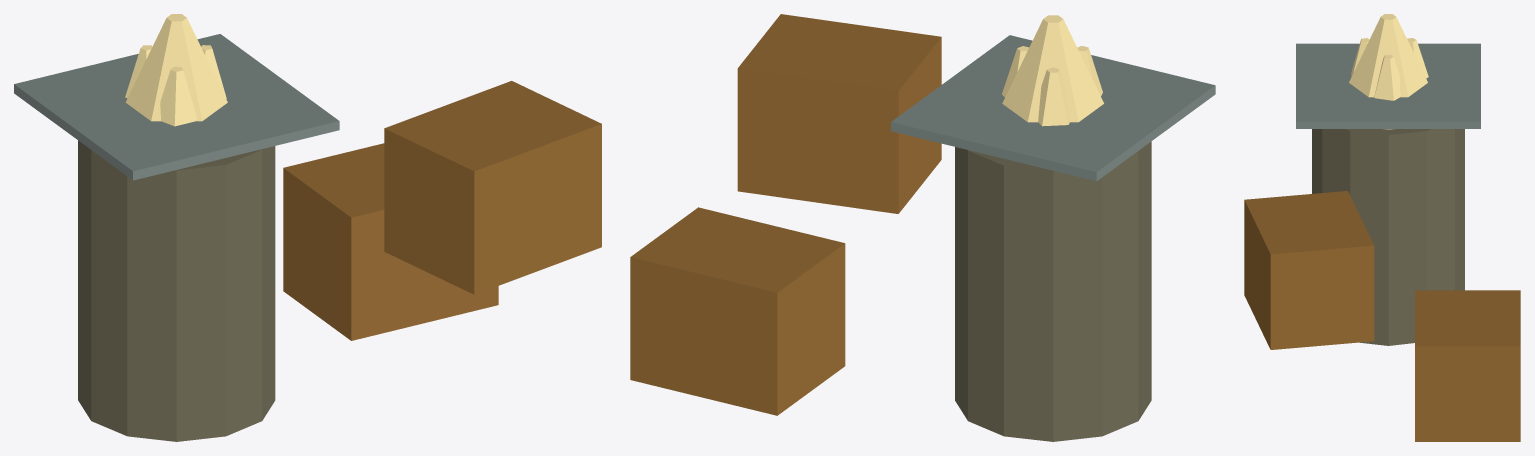
Rendered from SM_BidonFuego_v1_Parrilla_LOD0.fbx.
3 renders of one model, left to right at view 1: azimuth 30°, elevation 25°; view 2: azimuth 150°, elevation 25°; view 3: azimuth 270°, elevation 25°, orthographic. The views are drawn at different scales.
Visible parts, largest first — view 1: SM_vida_fuerte_v1_LOD0, Emision; view 2: SM_vida_fuerte_v1_LOD0, Emision; view 3: SM_vida_fuerte_v1_LOD0, Emision.
Boxes of the visible parts, x1,y1,x2,y2 form: SM_vida_fuerte_v1_LOD0: [14, 34, 601, 441]; Emision: [125, 14, 227, 126]; SM_vida_fuerte_v1_LOD0: [630, 14, 1215, 441]; Emision: [1002, 15, 1103, 126]; SM_vida_fuerte_v1_LOD0: [1244, 43, 1520, 441]; Emision: [1349, 14, 1428, 129].
Bounding box in the file's own units: 1.53 × 1.24 × 1.05.
